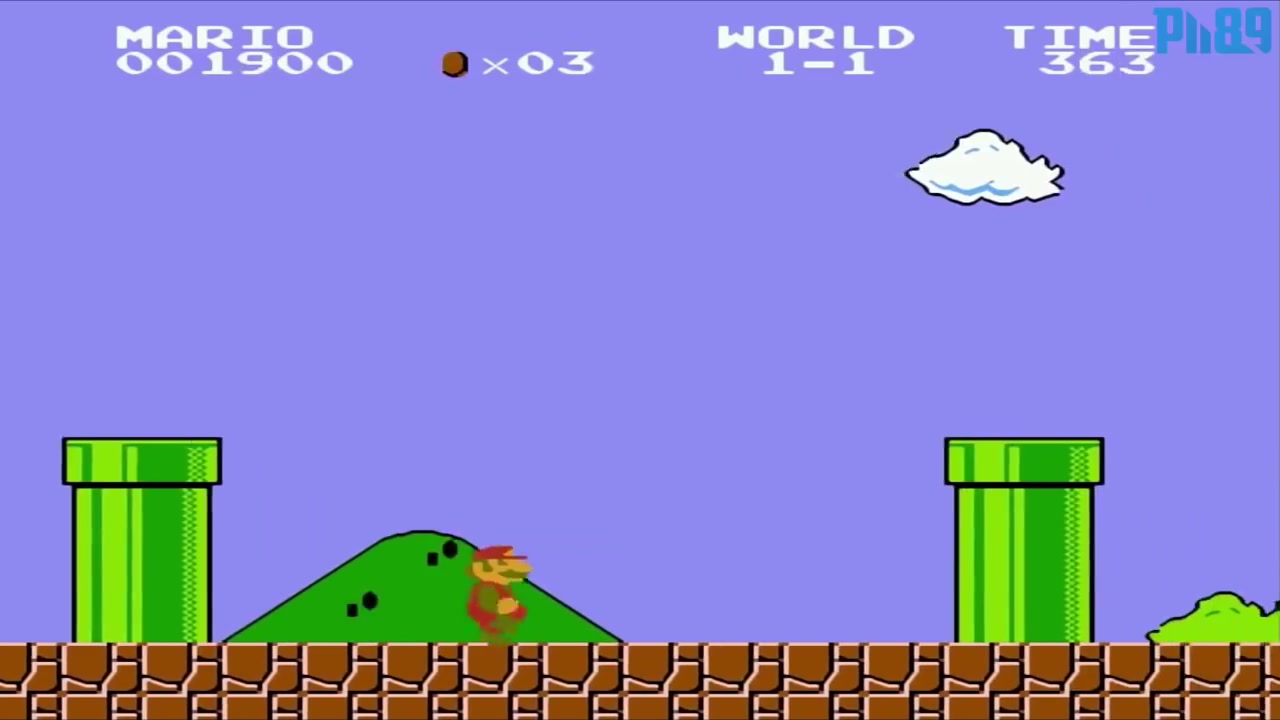mario: (451, 537, 537, 645)
